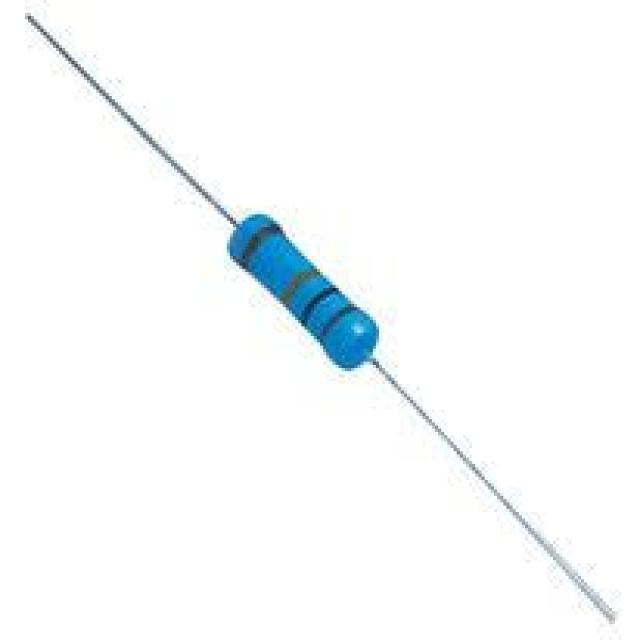Resistor: (228, 212, 378, 367)
